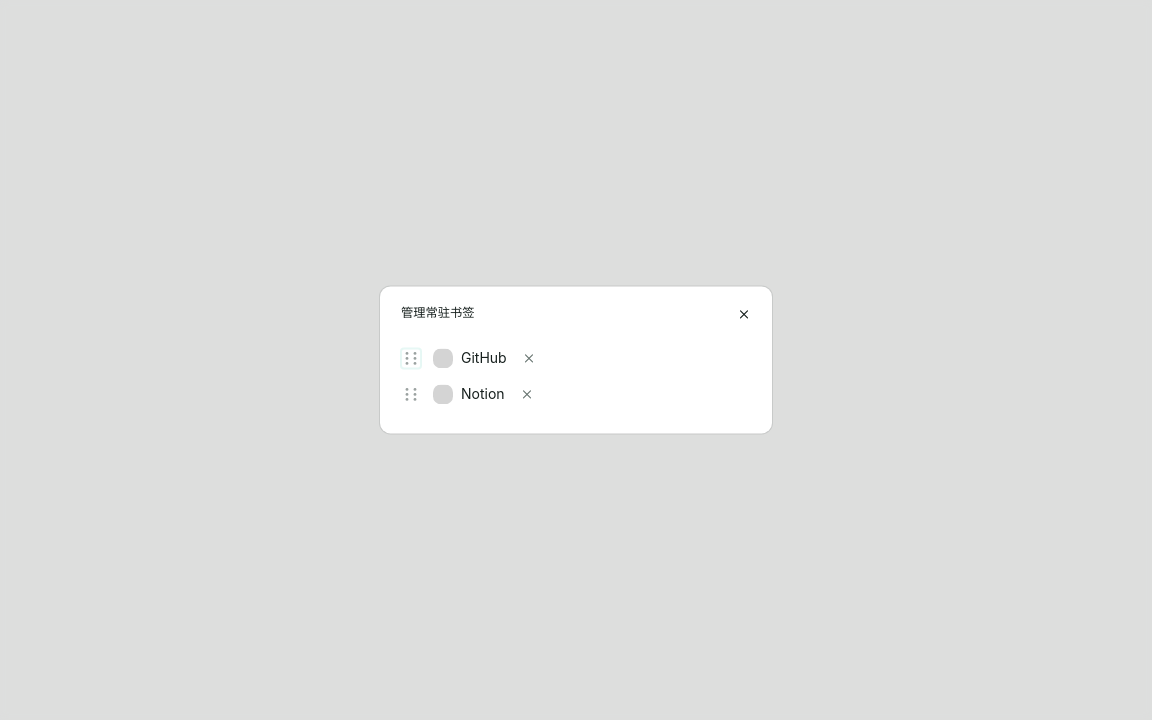
Test: PinnedManageDialog — 常驻书签管理弹窗 › 点击某项删除按钮 → 该项从列表消失
Step 1. Click the button named "取消常驻 GitHub" → (529, 359), box [515,345,543,373]
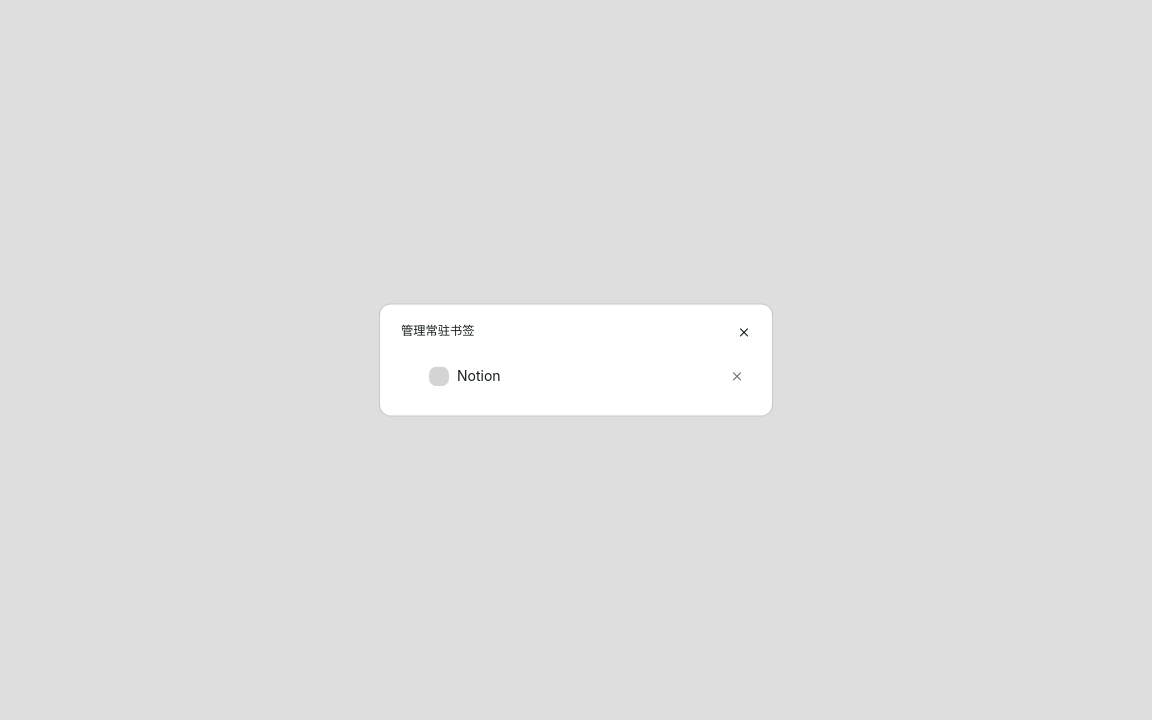
Expected: the text "Notion" is shown, [457,368,501,385]
Expected: the text "GitHub" is gone
